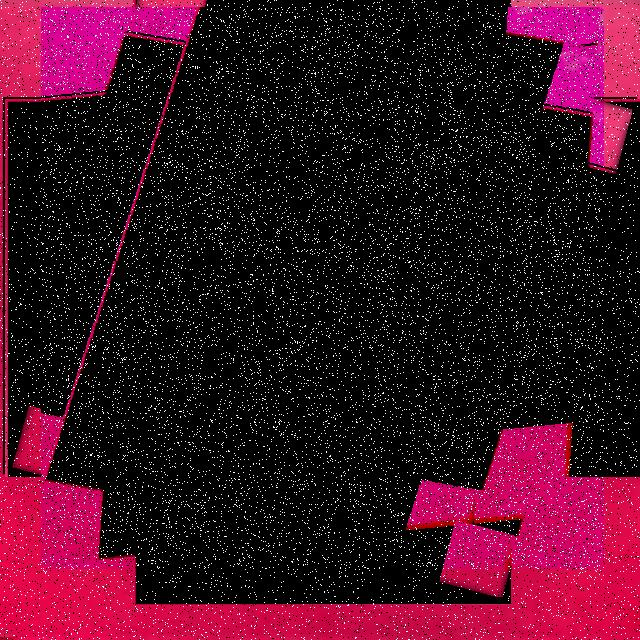dua ribu rupiah: (41, 7, 604, 569)
